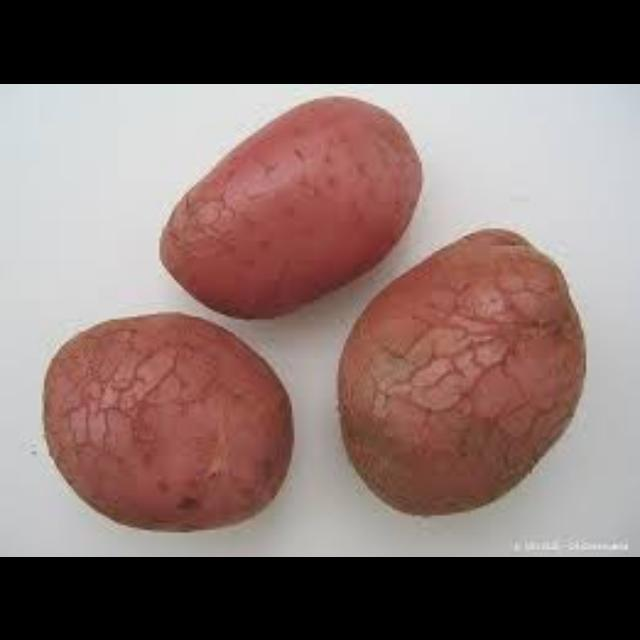Defected potato: (342, 206, 598, 524), (32, 286, 298, 532), (165, 90, 422, 328)
